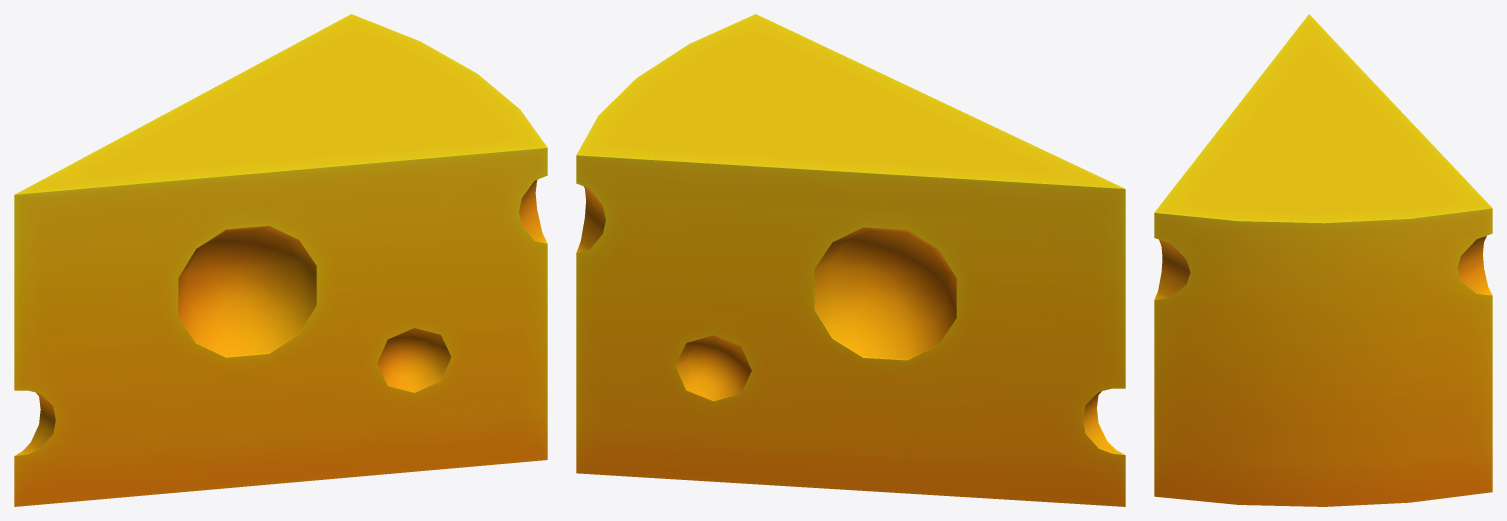
The model's file is Cheese.fbx.
The picture shows the model from 3 angles, left to right: view 1: azimuth 30°, elevation 25°; view 2: azimuth 150°, elevation 25°; view 3: azimuth 270°, elevation 25°; orthographic projection. The views are drawn at different scales.
Parts seen in each view (by area): view 1: Cheese_1; view 2: Cheese_1; view 3: Cheese_1.
Boxes of the visible parts, x1=… form: Cheese_1: x1=14, y1=14, x2=547, y2=506; Cheese_1: x1=576, y1=14, x2=1125, y2=506; Cheese_1: x1=1154, y1=14, x2=1492, y2=506.
Size of the model in its own units: 32.75 by 20.71 by 22.4.
1 material, 1 textured.
